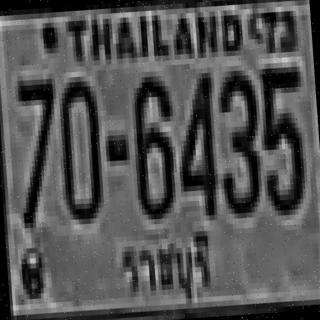N00: (54, 76, 102, 220)
N03: (213, 65, 263, 214)
N04: (171, 68, 218, 217)
N05: (256, 62, 306, 211)
N06: (128, 70, 175, 215)
N07: (13, 74, 60, 223)
P52: (114, 224, 218, 320)
